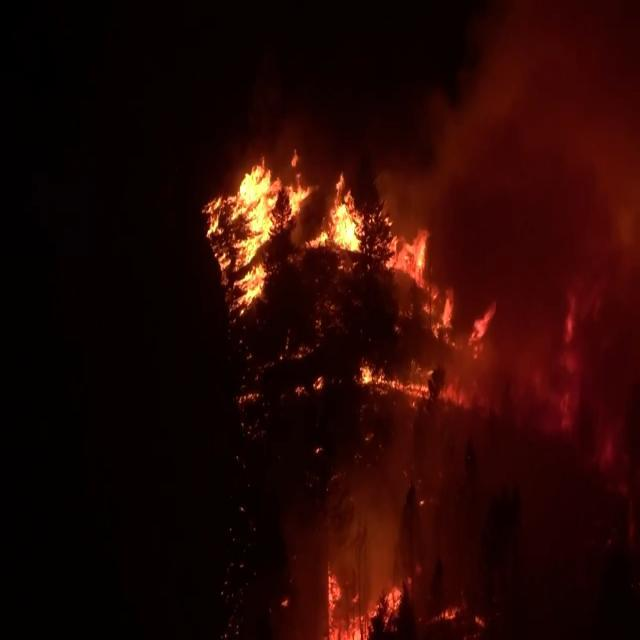Fire: (197, 145, 511, 640)
